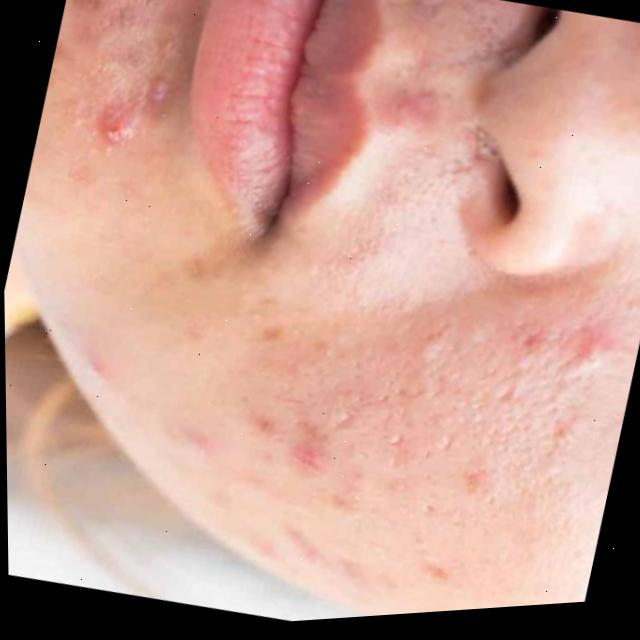Acne: (123, 247, 579, 632), (29, 14, 189, 223)
